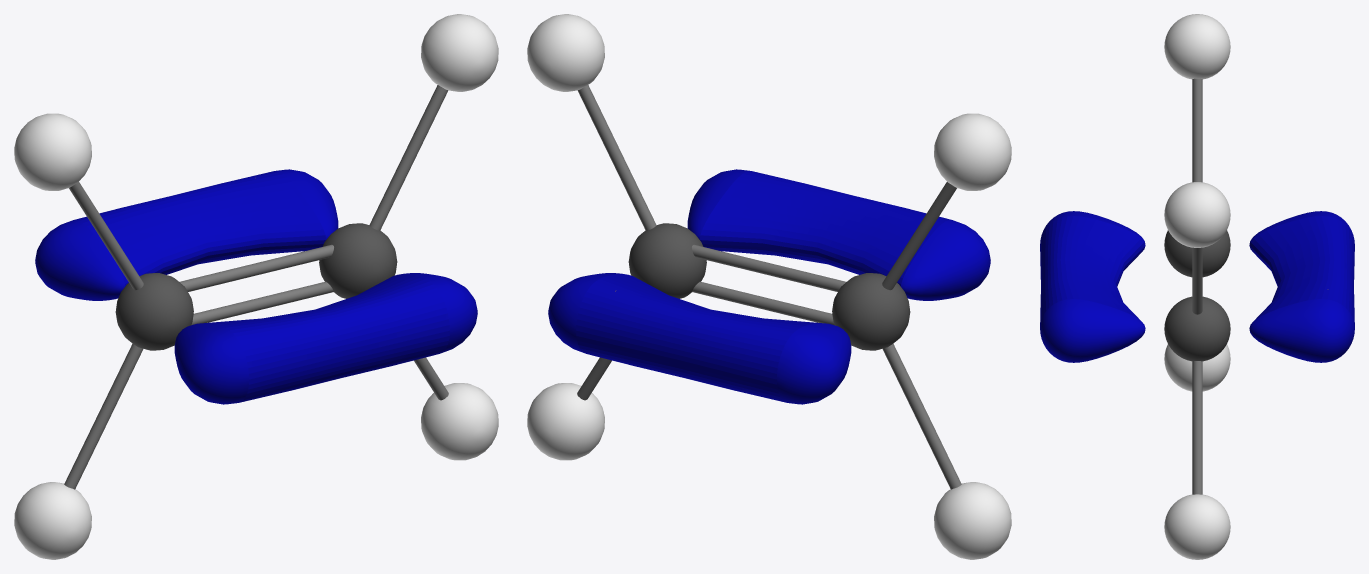
3 views of the same model, side by side, from view 1: azimuth 30°, elevation 25°; view 2: azimuth 150°, elevation 25°; view 3: azimuth 270°, elevation 25° (orthographic). The views are drawn at different scales.
Parts seen in each view (by area): view 1: pSphere7, pSphere8, pSphere29.001, pSphere4, pSphere29, pSphere4.001, pSphere2, pSphere1, pCylinder17.001, pCylinder17, pCylinder2, pCylinder4 (+2 smaller); view 2: pSphere8, pSphere7, pSphere29.001, pSphere4, pSphere29, pSphere4.001, pSphere2, pSphere1, pCylinder17.001, pCylinder17, pCylinder2, pCylinder4 (+2 smaller); view 3: pSphere7, pSphere8, pSphere29.001, pSphere4.001, pSphere4, pSphere1, pSphere29, pSphere2, pCylinder5.001, pCylinder5, pCylinder17.001.
Part boxes in pixels (x1,y1,x2,y2): pSphere7: (174, 273, 477, 404); pSphere8: (35, 169, 338, 300); pSphere29.001: (421, 14, 498, 91); pSphere4: (14, 113, 91, 190); pSphere29: (14, 482, 91, 559); pSphere4.001: (421, 383, 498, 460); pSphere2: (115, 273, 193, 350); pSphere1: (319, 223, 397, 298); pCylinder17.001: (369, 85, 448, 230); pCylinder17: (64, 343, 143, 489); pCylinder2: (180, 244, 333, 291); pCylinder4: (191, 281, 333, 325); pSphere8: (548, 273, 851, 404); pSphere7: (687, 169, 990, 300); pSphere29.001: (527, 14, 604, 91); pSphere4: (934, 113, 1011, 190); pSphere29: (934, 482, 1011, 559); pSphere4.001: (527, 383, 604, 460); pSphere2: (832, 273, 910, 350); pSphere1: (628, 223, 706, 298); pCylinder17.001: (577, 85, 656, 230); pCylinder17: (882, 343, 961, 489); pCylinder2: (692, 244, 845, 291); pCylinder4: (692, 281, 834, 325); pSphere7: (1040, 211, 1145, 362); pSphere8: (1249, 211, 1354, 362); pSphere29.001: (1164, 182, 1230, 247); pSphere4.001: (1164, 494, 1230, 559); pSphere4: (1164, 14, 1230, 79); pSphere1: (1164, 296, 1230, 361); pSphere29: (1164, 344, 1230, 391); pSphere2: (1164, 230, 1230, 277); pCylinder5.001: (1192, 361, 1202, 494); pCylinder5: (1192, 78, 1202, 182); pCylinder17.001: (1192, 247, 1202, 314).
Size of the model in its own units: 0.1399 by 0.1238 by 0.0951.
